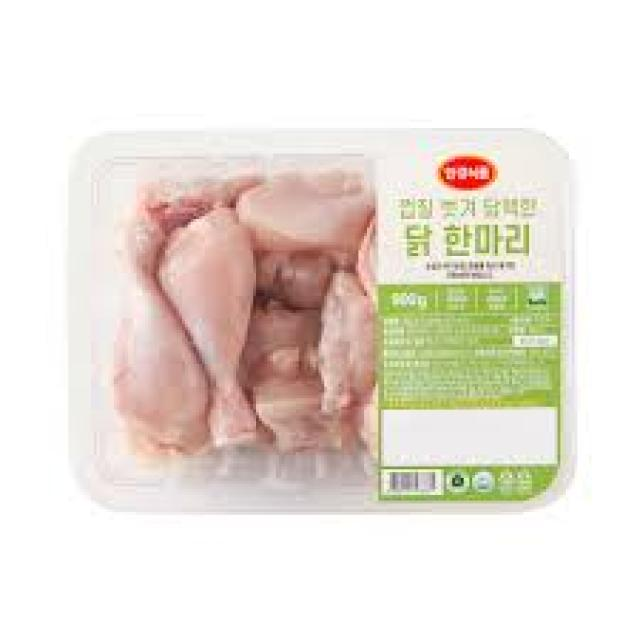chicken: (92, 142, 596, 522)
